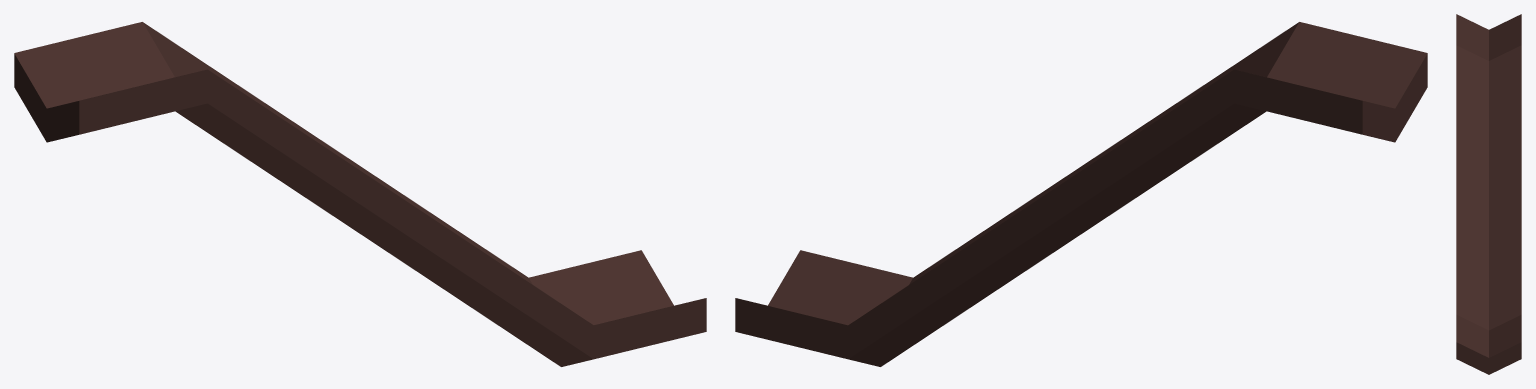
Rendered from GrainChute.glb.
3 renders of one model, left to right at view 1: azimuth 30°, elevation 25°; view 2: azimuth 150°, elevation 25°; view 3: azimuth 270°, elevation 25°, orthographic. The views are drawn at different scales.
Parts seen in each view (by area): view 1: Chute; view 2: Chute; view 3: Chute.
Boxes of the visible parts, x1,y1,x2,y2 form: Chute: (14, 22, 706, 366); Chute: (735, 22, 1427, 366); Chute: (1456, 14, 1521, 374).
Bounding box in the file's own units: 11.11 × 7.04 × 2.
